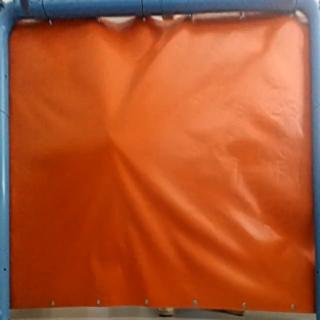Hit-hRxx: (104, 131, 118, 145)
